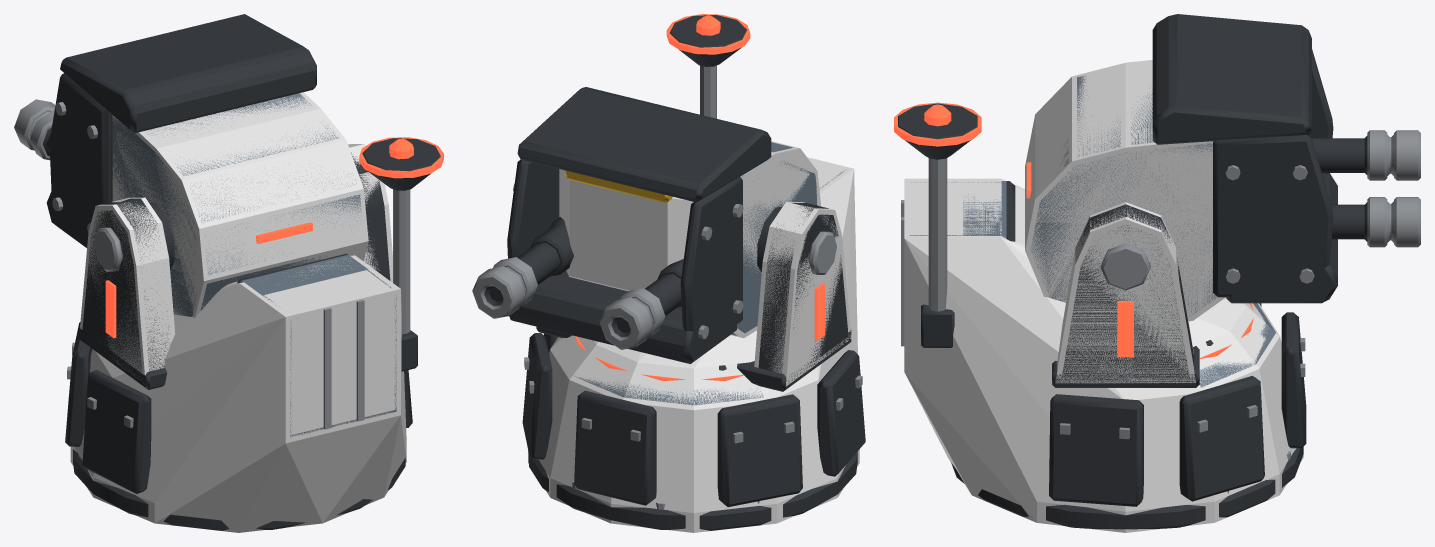
File: turret.glb
The picture shows the model from 3 angles, left to right: view 1: azimuth 30°, elevation 25°; view 2: azimuth 150°, elevation 25°; view 3: azimuth 270°, elevation 25°; orthographic projection. The views are drawn at different scales.
Visible parts, largest first — view 1: COL_base, COL_head, affix_armour_shield, base, head, affix_armour_skirts, COL_yoke_l, affix_shield_emitter, barrel, COL_yoke_r; view 2: affix_armour_shield, COL_base, affix_armour_skirts, base, COL_head, COL_yoke_l, barrel, head, affix_shield_emitter; view 3: COL_base, affix_armour_shield, COL_head, base, affix_armour_skirts, COL_yoke_r, barrel, affix_shield_emitter, head.
Boxes of the visible parts, x1=… form: COL_base: x1=70, y1=255, x2=406, y2=532; COL_head: x1=112, y1=92, x2=368, y2=317; affix_armour_shield: x1=46, y1=14, x2=316, y2=247; base: x1=73, y1=152, x2=405, y2=530; head: x1=112, y1=93, x2=361, y2=316; affix_armour_skirts: x1=65, y1=322, x2=412, y2=493; COL_yoke_l: x1=80, y1=197, x2=175, y2=383; affix_shield_emitter: x1=359, y1=137, x2=443, y2=371; barrel: x1=14, y1=99, x2=55, y2=160; COL_yoke_r: x1=348, y1=144, x2=392, y2=282; affix_armour_shield: x1=507, y1=87, x2=771, y2=363; COL_base: x1=528, y1=157, x2=859, y2=532; affix_armour_skirts: x1=522, y1=333, x2=865, y2=507; base: x1=529, y1=171, x2=857, y2=530; COL_head: x1=559, y1=141, x2=821, y2=338; COL_yoke_l: x1=754, y1=201, x2=851, y2=386; barrel: x1=472, y1=242, x2=681, y2=349; head: x1=530, y1=142, x2=817, y2=335; affix_shield_emitter: x1=666, y1=14, x2=750, y2=118; COL_base: x1=904, y1=178, x2=1303, y2=532; affix_armour_shield: x1=1152, y1=14, x2=1337, y2=303; COL_head: x1=1025, y1=60, x2=1225, y2=321; base: x1=901, y1=181, x2=1303, y2=529; affix_armour_skirts: x1=1049, y1=303, x2=1306, y2=506; COL_yoke_r: x1=1055, y1=202, x2=1195, y2=383; barrel: x1=1312, y1=130, x2=1420, y2=247; affix_shield_emitter: x1=894, y1=102, x2=981, y2=347; head: x1=1026, y1=75, x2=1217, y2=316.
Size of the model in its own units: 1.1 by 1.31 by 1.57.
